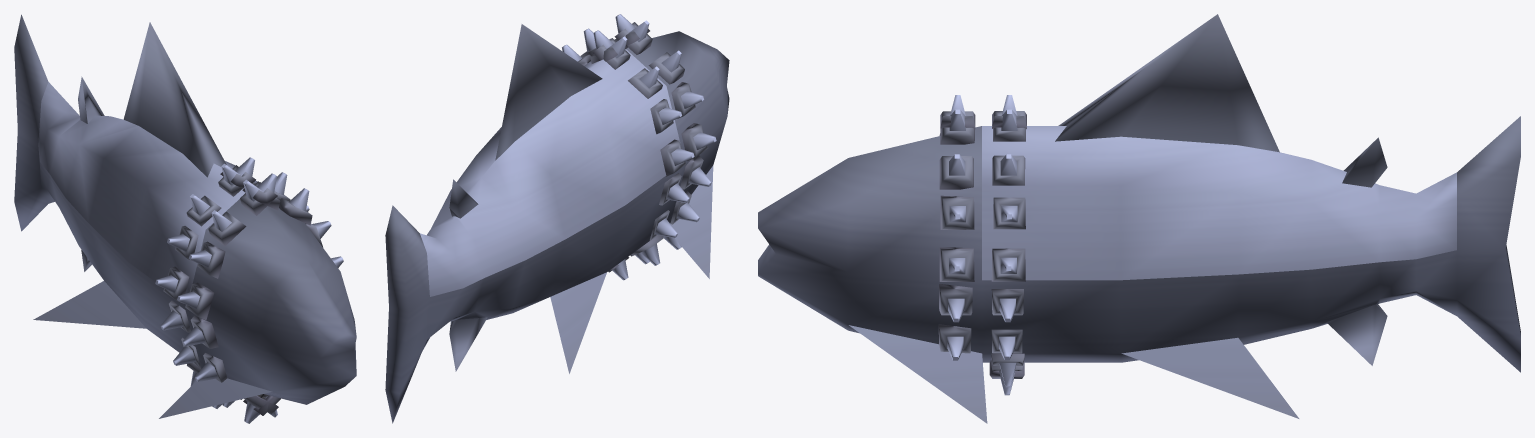
The model's file is fish_punk.glb.
The picture shows the model from 3 angles, left to right: view 1: azimuth 30°, elevation 25°; view 2: azimuth 150°, elevation 25°; view 3: azimuth 270°, elevation 25°; orthographic projection. The views are drawn at different scales.
Visible parts, largest first — view 1: fish, trap; view 2: fish, trap; view 3: fish, trap.
Part boxes in pixels (x1,y1,x2,y2): fish: (14, 14, 356, 418); trap: (155, 157, 343, 423); fish: (385, 24, 729, 423); trap: (562, 14, 716, 280); fish: (758, 14, 1520, 423); trap: (938, 95, 1026, 395).
Size of the model in its own units: 0.1978 by 0.3357 by 0.6208.
2 materials, 2 textured.
